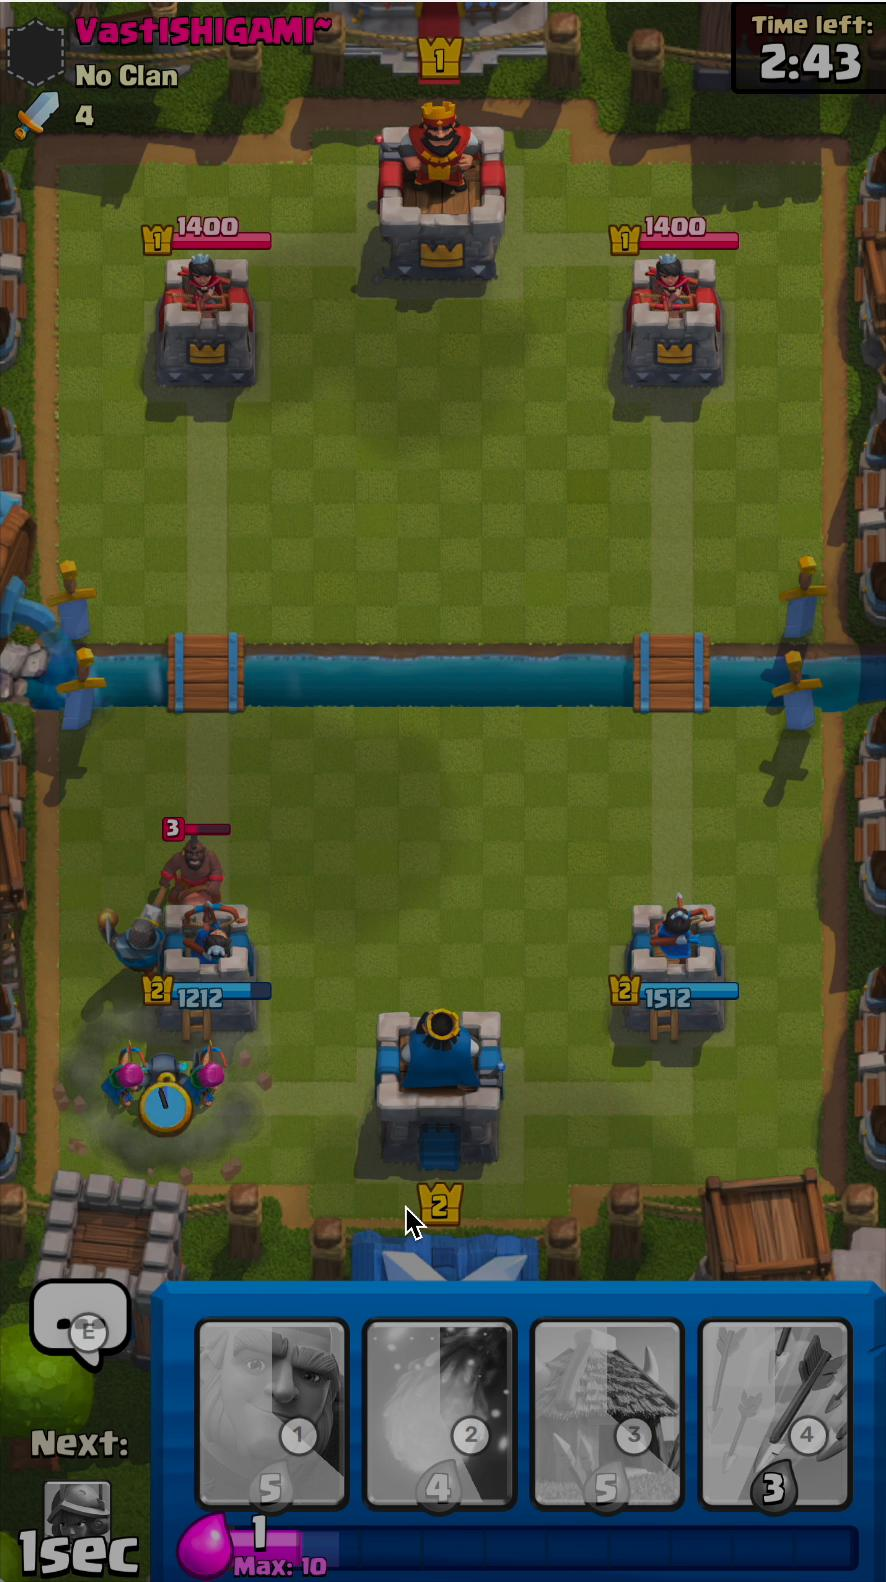archere: (169, 1034, 248, 1123)
chevalier: (91, 904, 174, 983), (90, 1038, 160, 1121)
mini_PEKKA: (143, 1050, 188, 1105)
